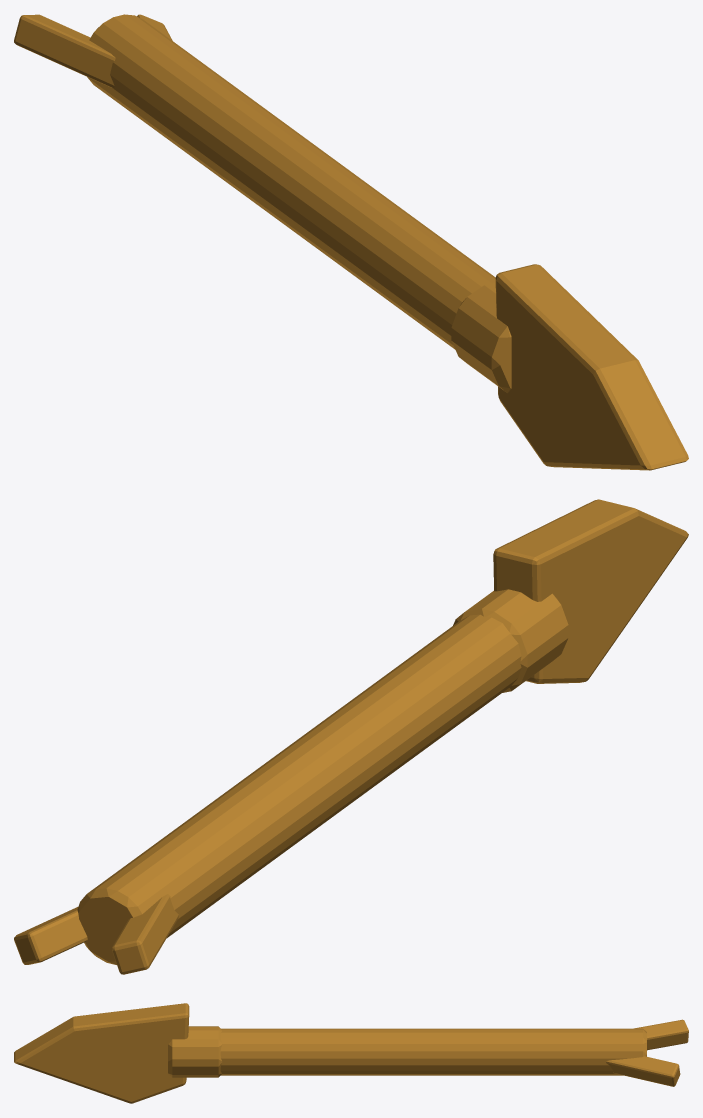
The model's file is AuxiliaBrokenStoneBolt.fbx.
3 views of the same model, one above another, from view 1: azimuth 30°, elevation 25°; view 2: azimuth 150°, elevation 25°; view 3: azimuth 270°, elevation 25° (orthographic). The views are drawn at different scales.
Visible parts, largest first — view 1: AuxiliaBrokenStoneBolt_GameExport; view 2: AuxiliaBrokenStoneBolt_GameExport; view 3: AuxiliaBrokenStoneBolt_GameExport.
Boxes of the visible parts, x1,y1,x2,y2 form: AuxiliaBrokenStoneBolt_GameExport: (14,14,688,470); AuxiliaBrokenStoneBolt_GameExport: (14,499,688,974); AuxiliaBrokenStoneBolt_GameExport: (14,1003,688,1103).
Bounding box in the file's own units: 1.37 × 9.96 × 1.47.
